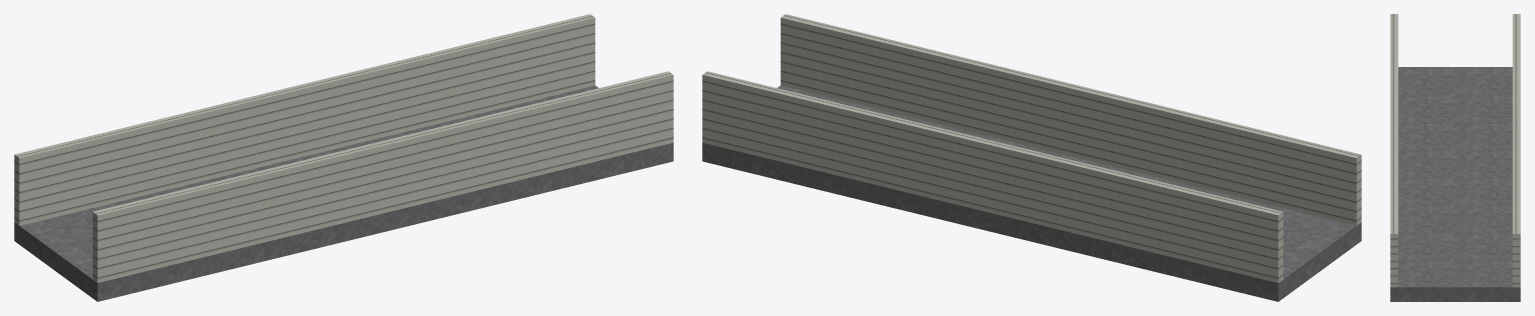
The model's file is footbridge.glb.
The picture shows the model from 3 angles, left to right: view 1: azimuth 30°, elevation 25°; view 2: azimuth 150°, elevation 25°; view 3: azimuth 270°, elevation 25°; orthographic projection. The views are drawn at different scales.
Visible parts, largest first — view 1: footbridge-col; view 2: footbridge-col; view 3: footbridge-col.
Part boxes in pixels (x1,y1,x2,y2): footbridge-col: (14,14,673,301); footbridge-col: (702,14,1361,301); footbridge-col: (1390,14,1520,301).
Size of the model in its own units: 8 by 1.15 by 2.
Materials: 2 (2 with a texture image).
